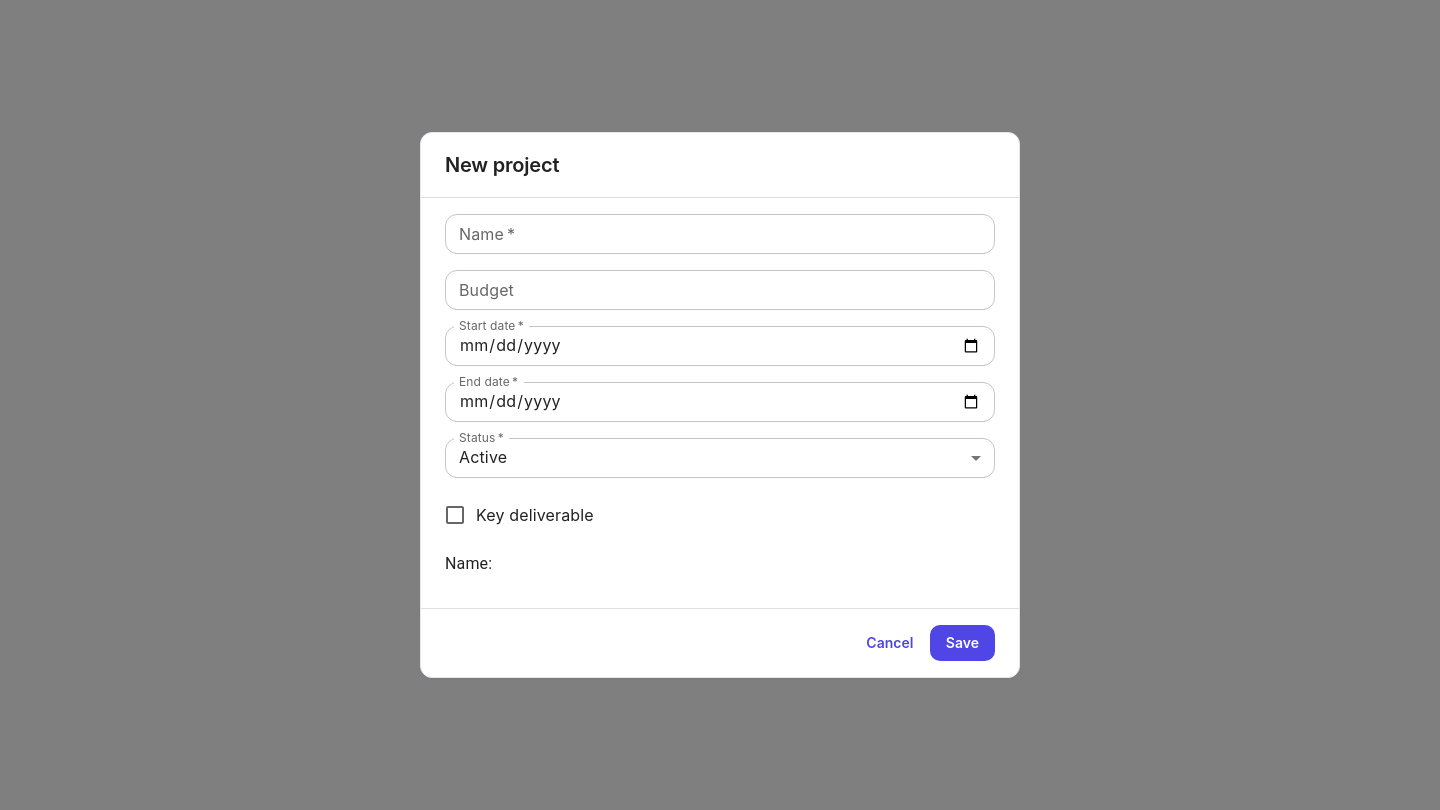
Test: FormDialog › renders renderAfterFields under the fields with the values entered so far
Check: the text with test id "preview" reads "Name:", box top-left (445, 554), bottom-right (492, 573)
Type "Apollo" into the field labelled "Name *". click: (720, 234)
box: top-left (445, 214), bottom-right (995, 254)
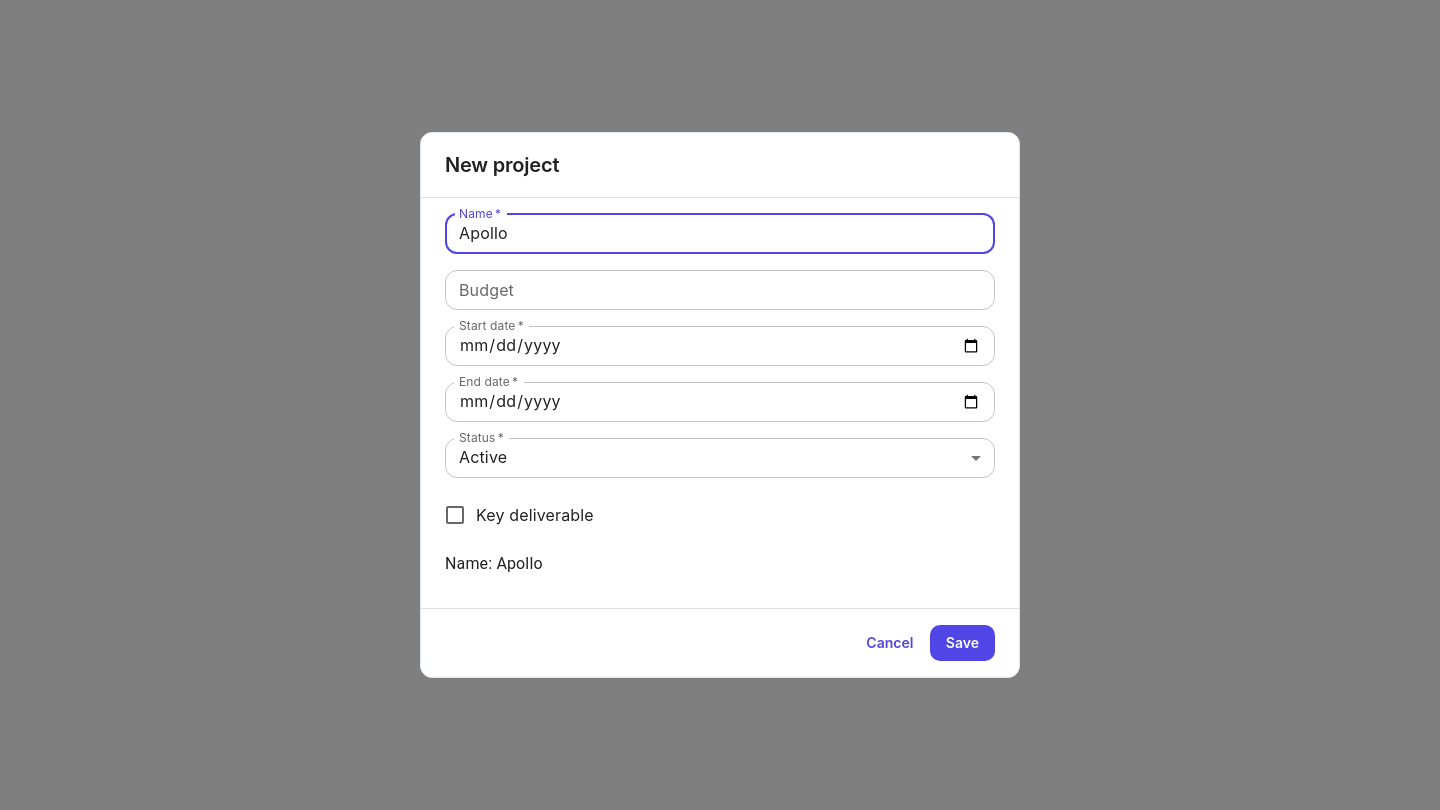
Check: the text with test id "preview" reads "Name: Apollo", box top-left (445, 554), bottom-right (543, 573)
